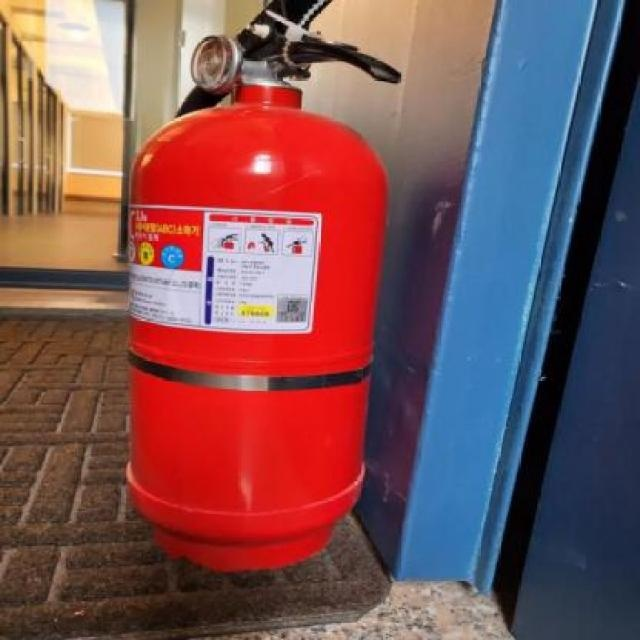fire extinguisher: (124, 0, 402, 569)
